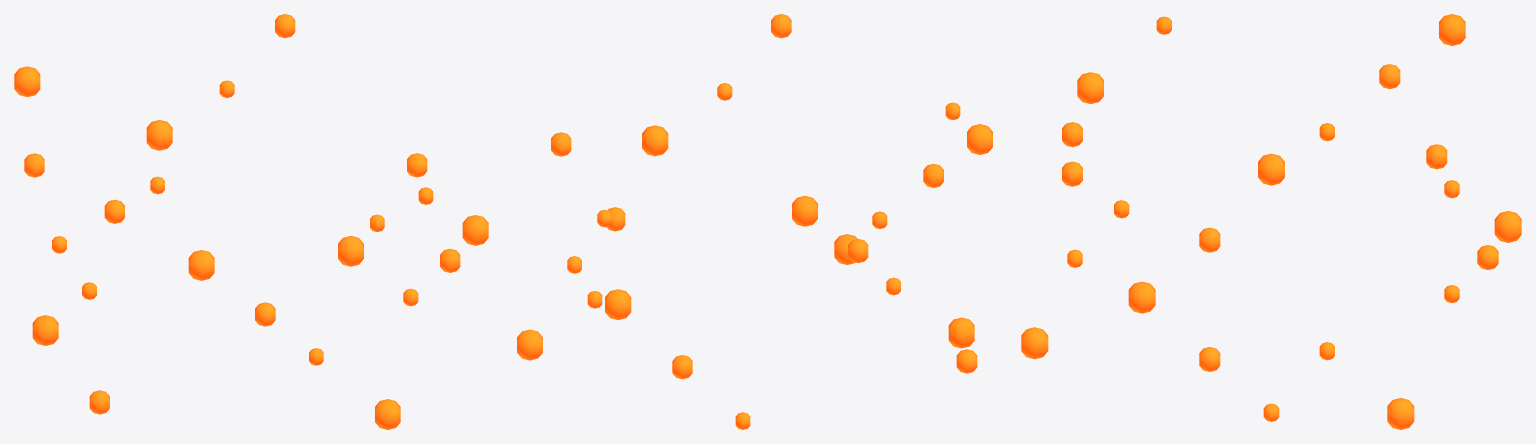
File: 108-ember-aura.glb
The picture shows the model from 3 angles, left to right: view 1: azimuth 30°, elevation 25°; view 2: azimuth 150°, elevation 25°; view 3: azimuth 270°, elevation 25°; orthographic projection. The views are drawn at different scales.
Bounding box in the file's own units: 0.8174 × 0.496 × 0.8578.
